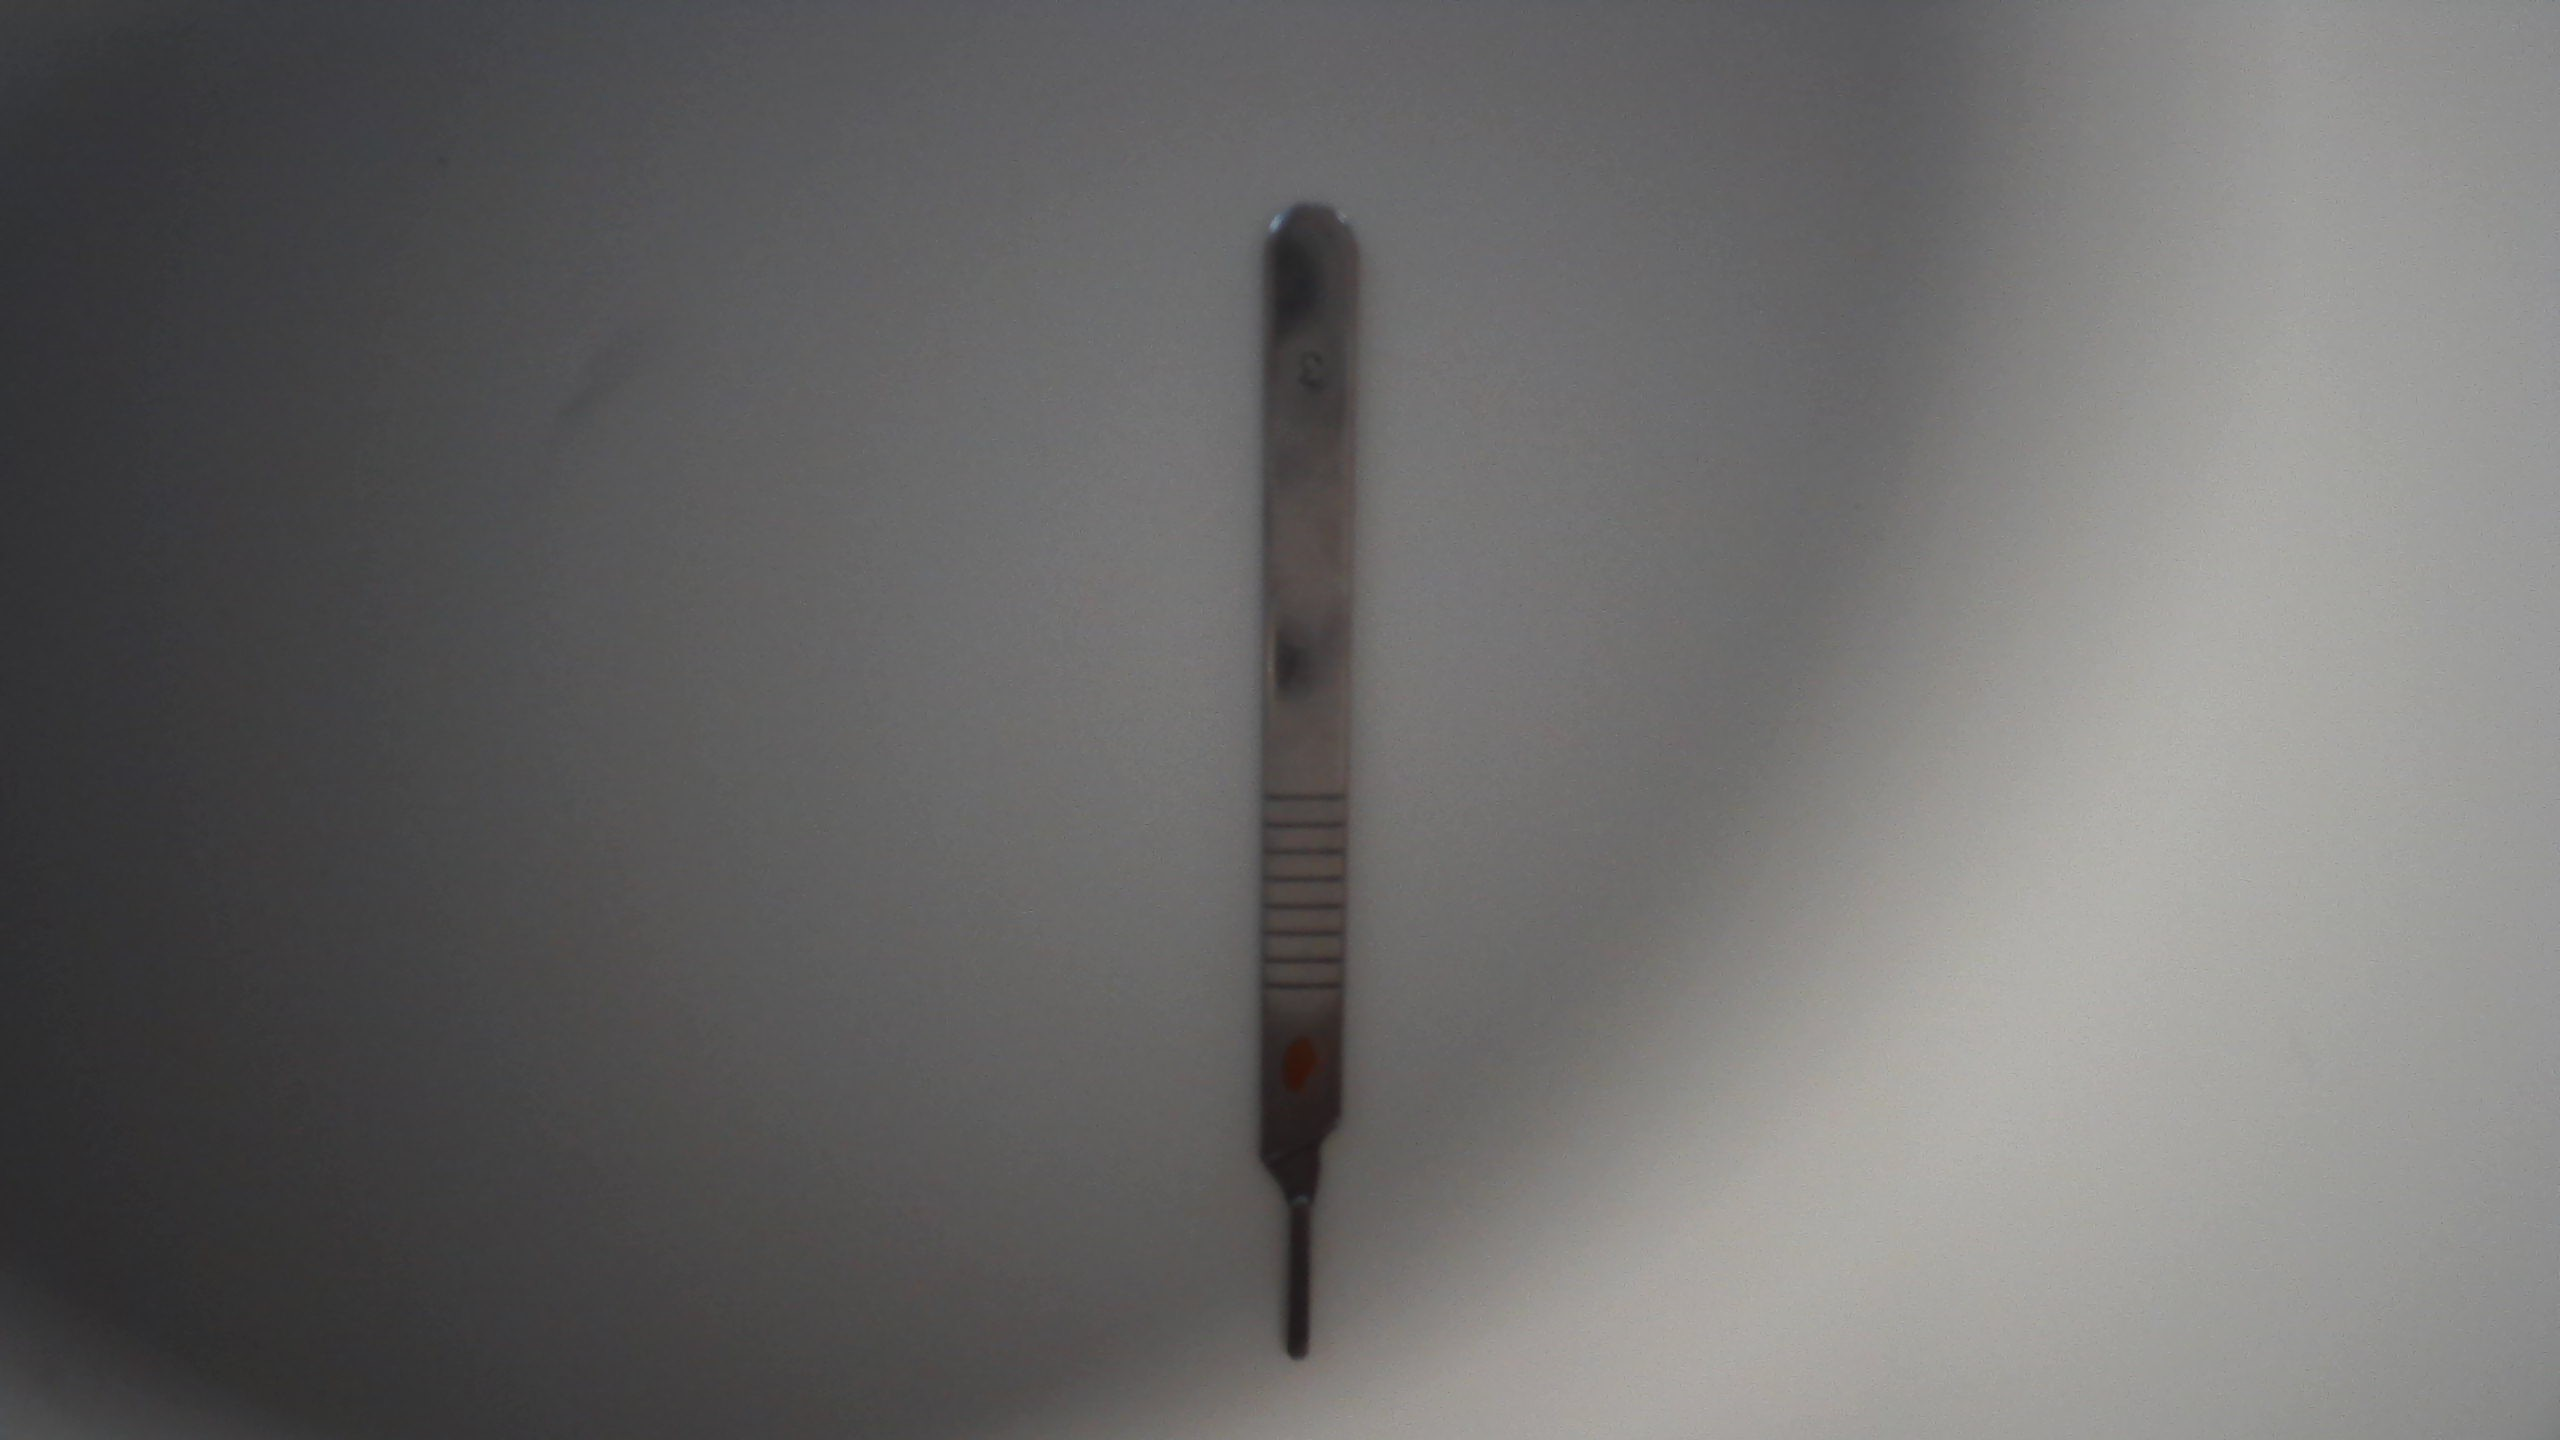Stain: (1280, 1023, 1331, 1095)
